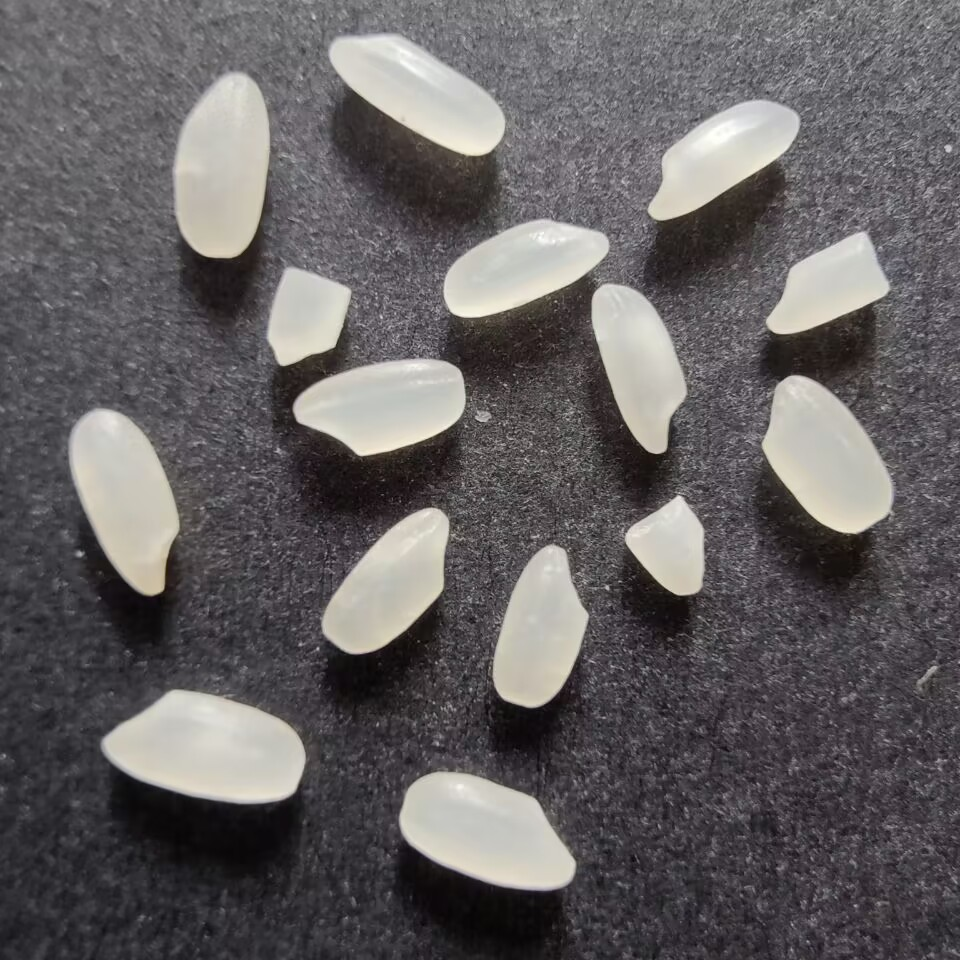broken: (763, 226, 895, 339), (620, 492, 711, 600), (263, 262, 351, 370)
rice: (90, 686, 310, 807), (756, 371, 899, 541), (320, 32, 508, 159), (394, 766, 582, 892), (65, 406, 183, 602), (318, 504, 454, 661), (640, 97, 807, 223), (169, 65, 272, 265), (437, 215, 612, 324), (288, 356, 468, 461), (587, 279, 691, 457), (490, 542, 592, 711)
